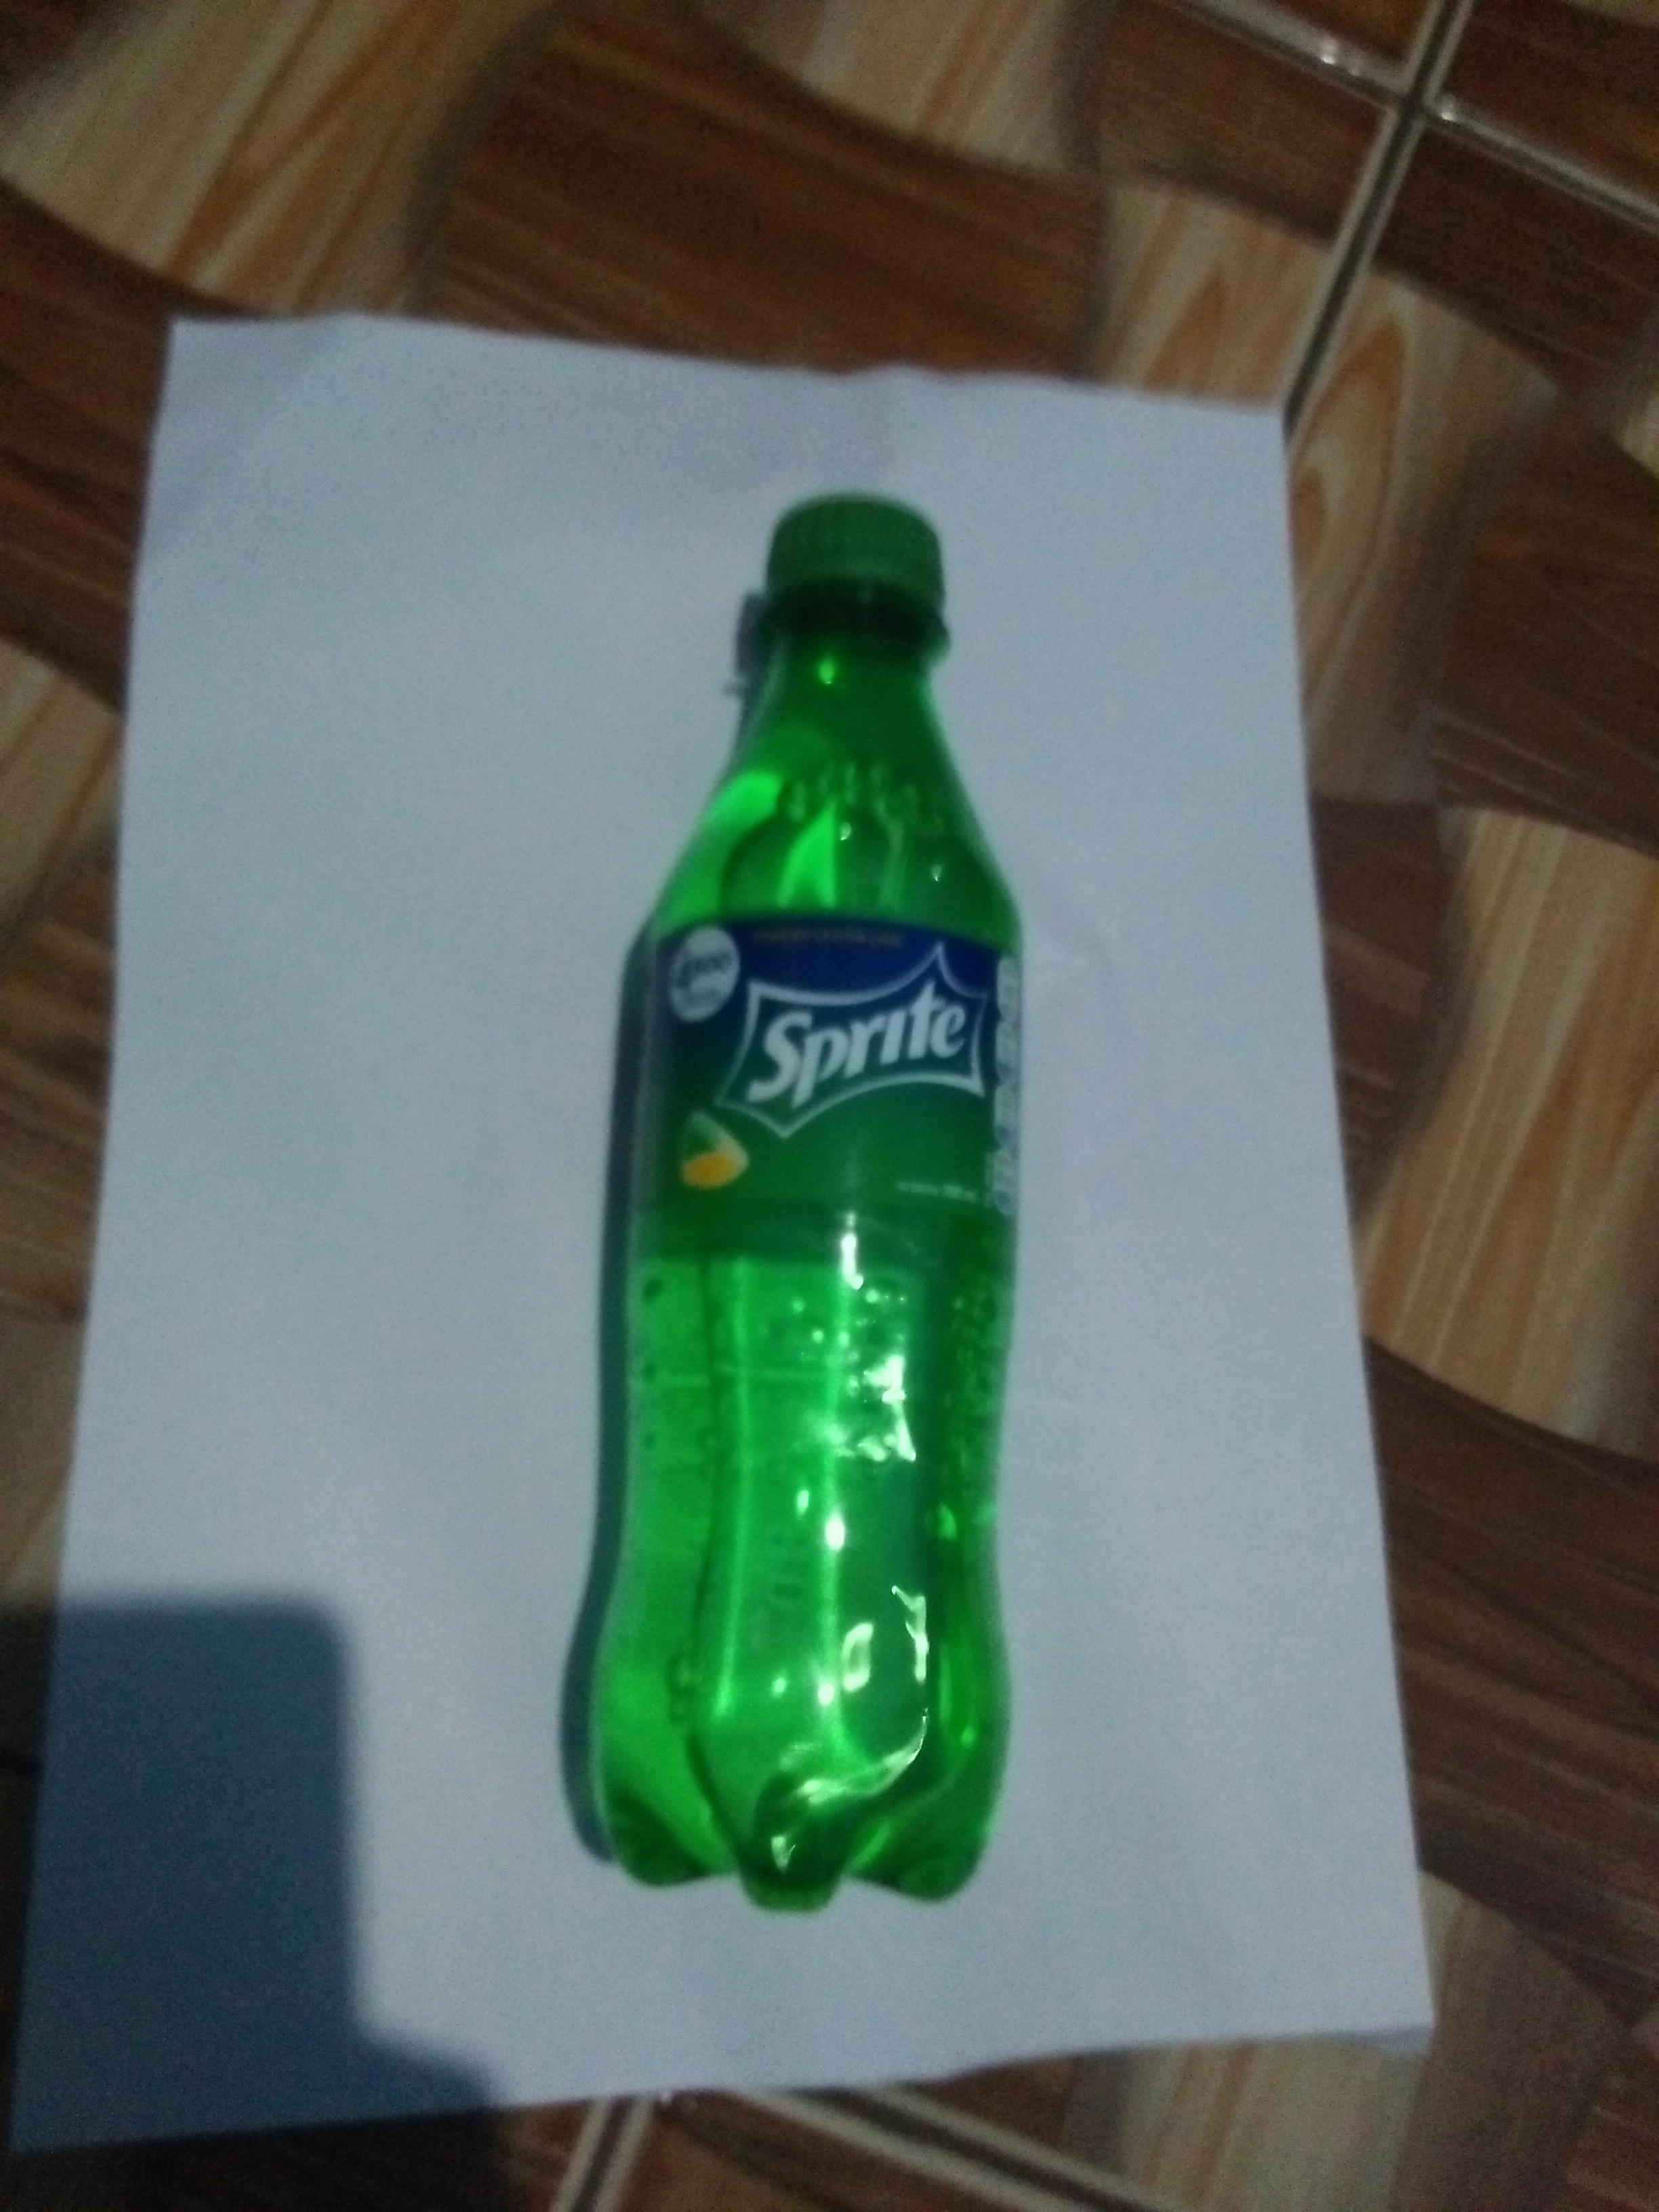Sprite: (566, 463, 1040, 1935)
